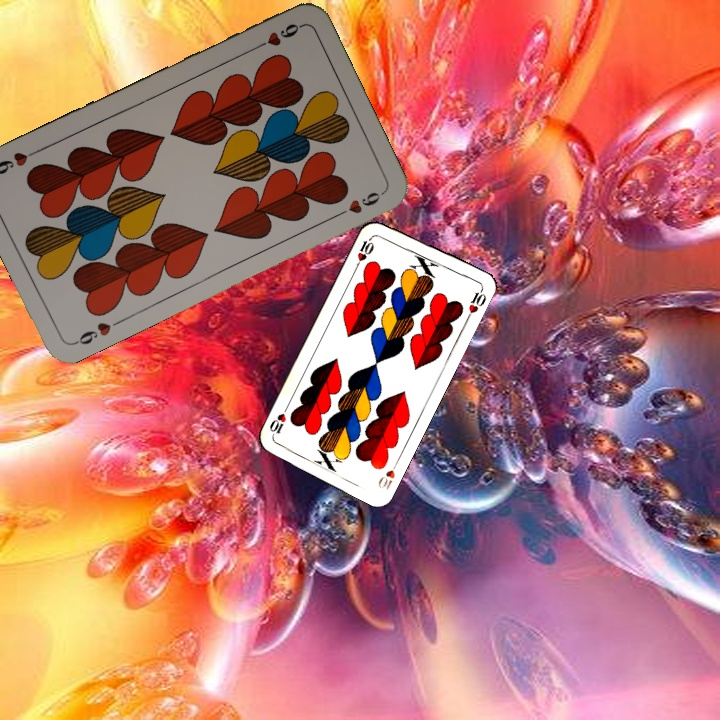H10: (374, 455, 402, 492), (352, 232, 377, 270)
H9: (249, 19, 305, 53), (69, 318, 114, 348)
